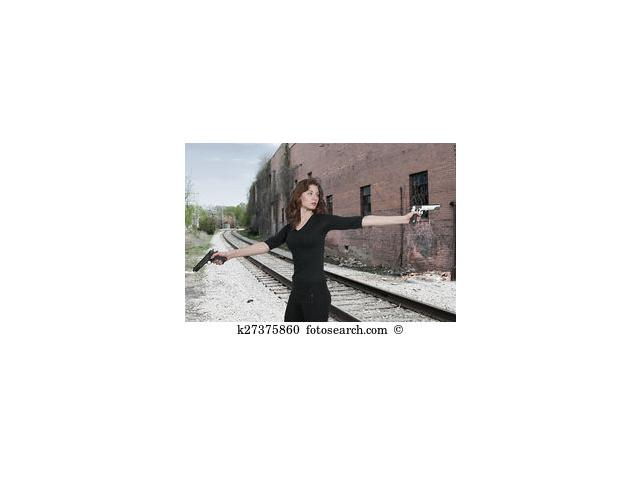pistol: (408, 203, 444, 227), (191, 250, 226, 272)
